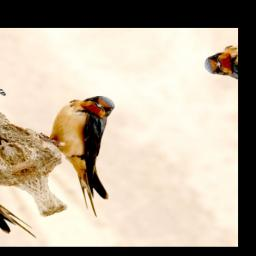Swallow: (13, 88, 178, 220)
